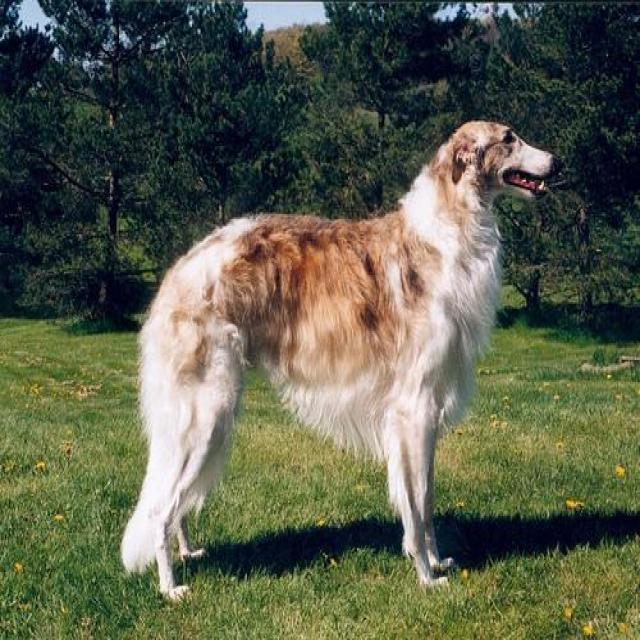adult_dog: (119, 119, 564, 602)
